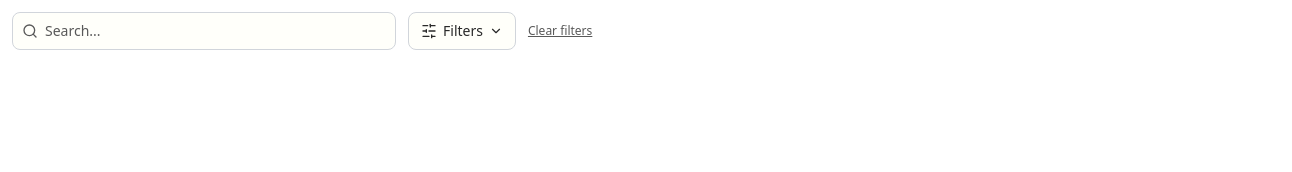
SearchFilterBar — disabled facet options › renders an unselected disabled option as disabled, with its reason as a title
Click the button "Filters" at (462, 31), box [408,12,516,50]
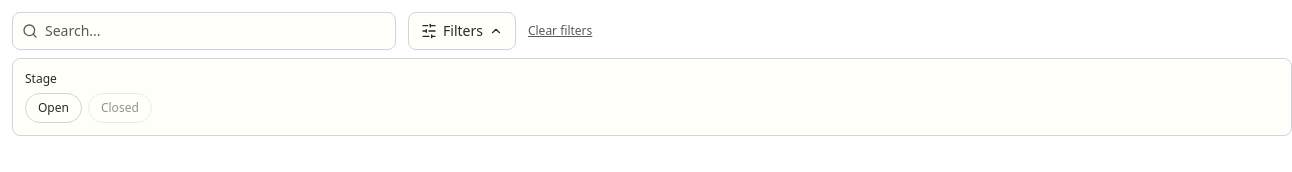
Expected: the button "Closed" is disabled, [88,93,152,123]
